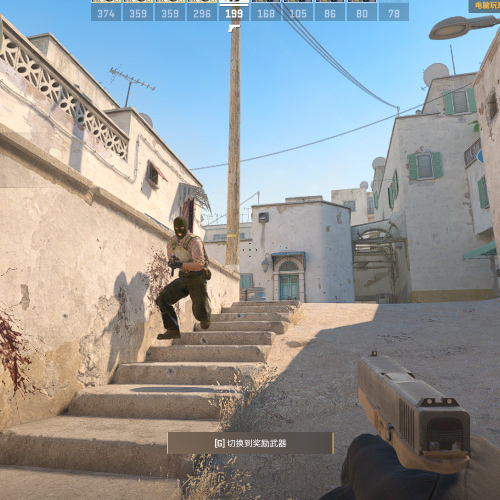t_body: (156, 216, 212, 339)
t_head: (172, 215, 188, 238)
